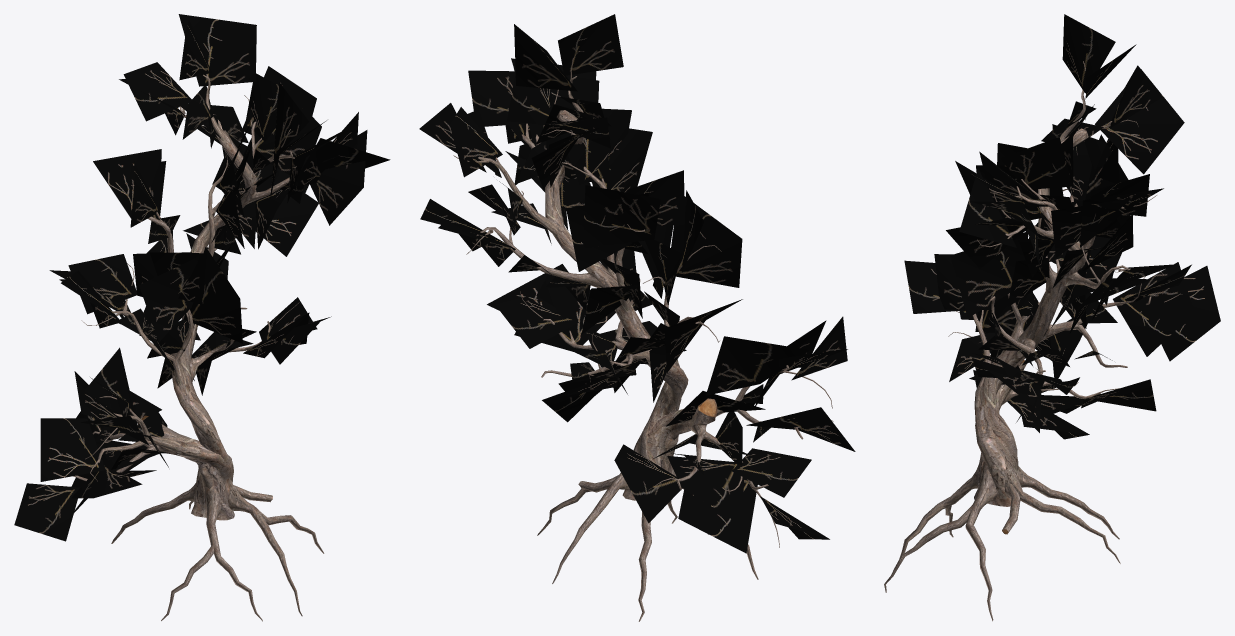
3 views of the same model, side by side, from view 1: azimuth 30°, elevation 25°; view 2: azimuth 150°, elevation 25°; view 3: azimuth 270°, elevation 25° (orthographic). The views are drawn at different scales.
Visible parts, largest first — view 1: Tree_2, Tree_0; view 2: Tree_2, Tree_0; view 3: Tree_2, Tree_0.
Boxes of the visible parts, x1,y1,x2,y2 form: Tree_2: [14, 14, 390, 541]; Tree_0: [73, 51, 336, 621]; Tree_2: [419, 14, 855, 553]; Tree_0: [453, 51, 833, 621]; Tree_2: [904, 14, 1220, 439]; Tree_0: [884, 61, 1182, 621].
Bounding box in the file's own units: 5.71 × 8.58 × 4.65.
Materials: 3 (3 with a texture image).
